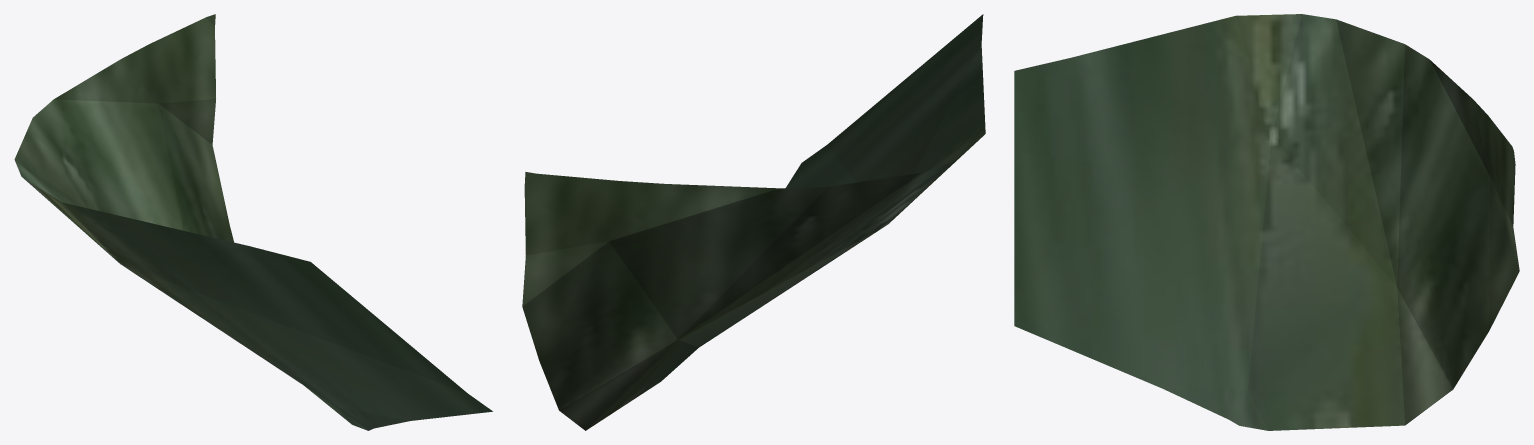
The picture shows the model from 3 angles, left to right: view 1: azimuth 30°, elevation 25°; view 2: azimuth 150°, elevation 25°; view 3: azimuth 270°, elevation 25°; orthographic projection. The views are drawn at different scales.
Size of the model in its own units: 0.6516 by 0.6199 by 1.02.
Materials: 1 (1 with a texture image).
